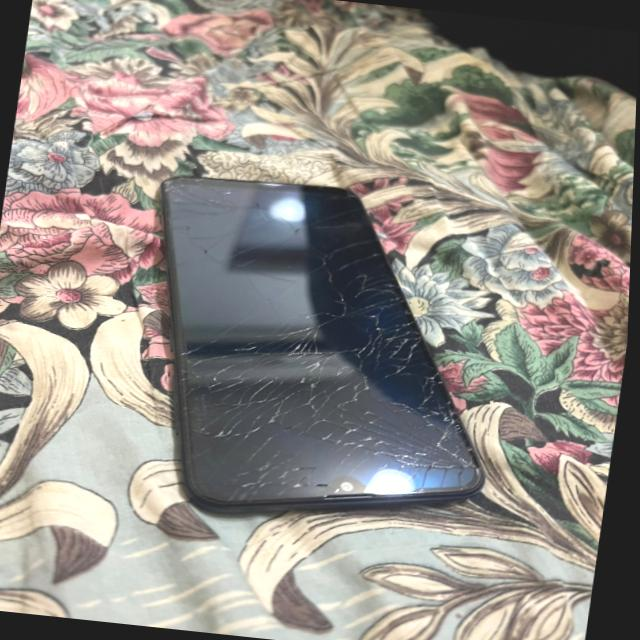Smartphone: (160, 174, 487, 512)
